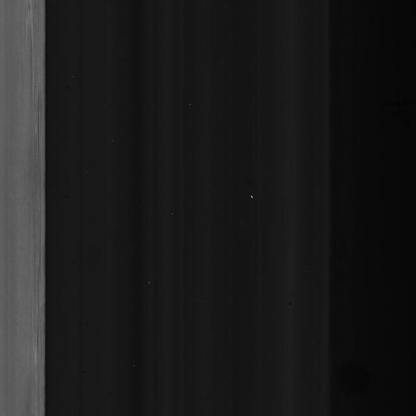silk_spot: (14, 0, 42, 393)
